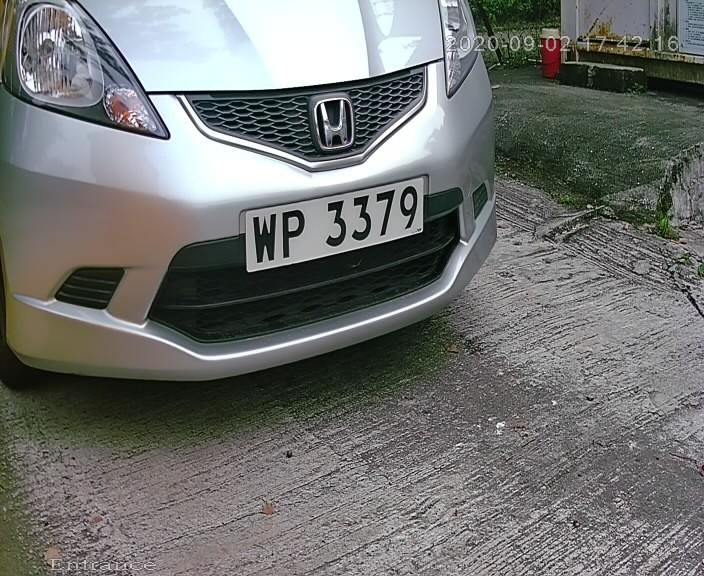License Plate: (243, 170, 428, 278)
